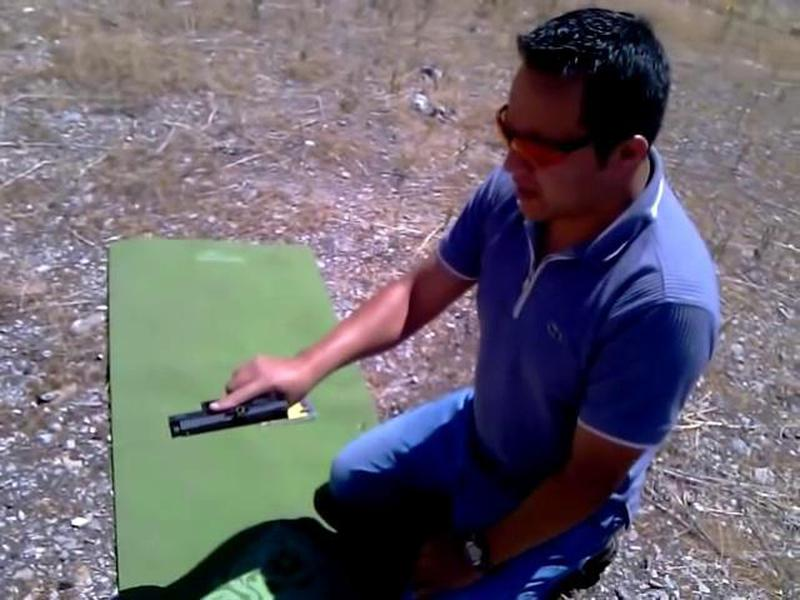Pistola: (163, 358, 307, 462)
